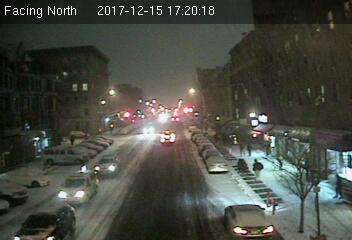car: (13, 204, 76, 240), (223, 202, 277, 238), (59, 165, 100, 206), (92, 152, 122, 176), (205, 156, 230, 174), (159, 135, 176, 145)
pedestrian: (252, 158, 262, 183)
